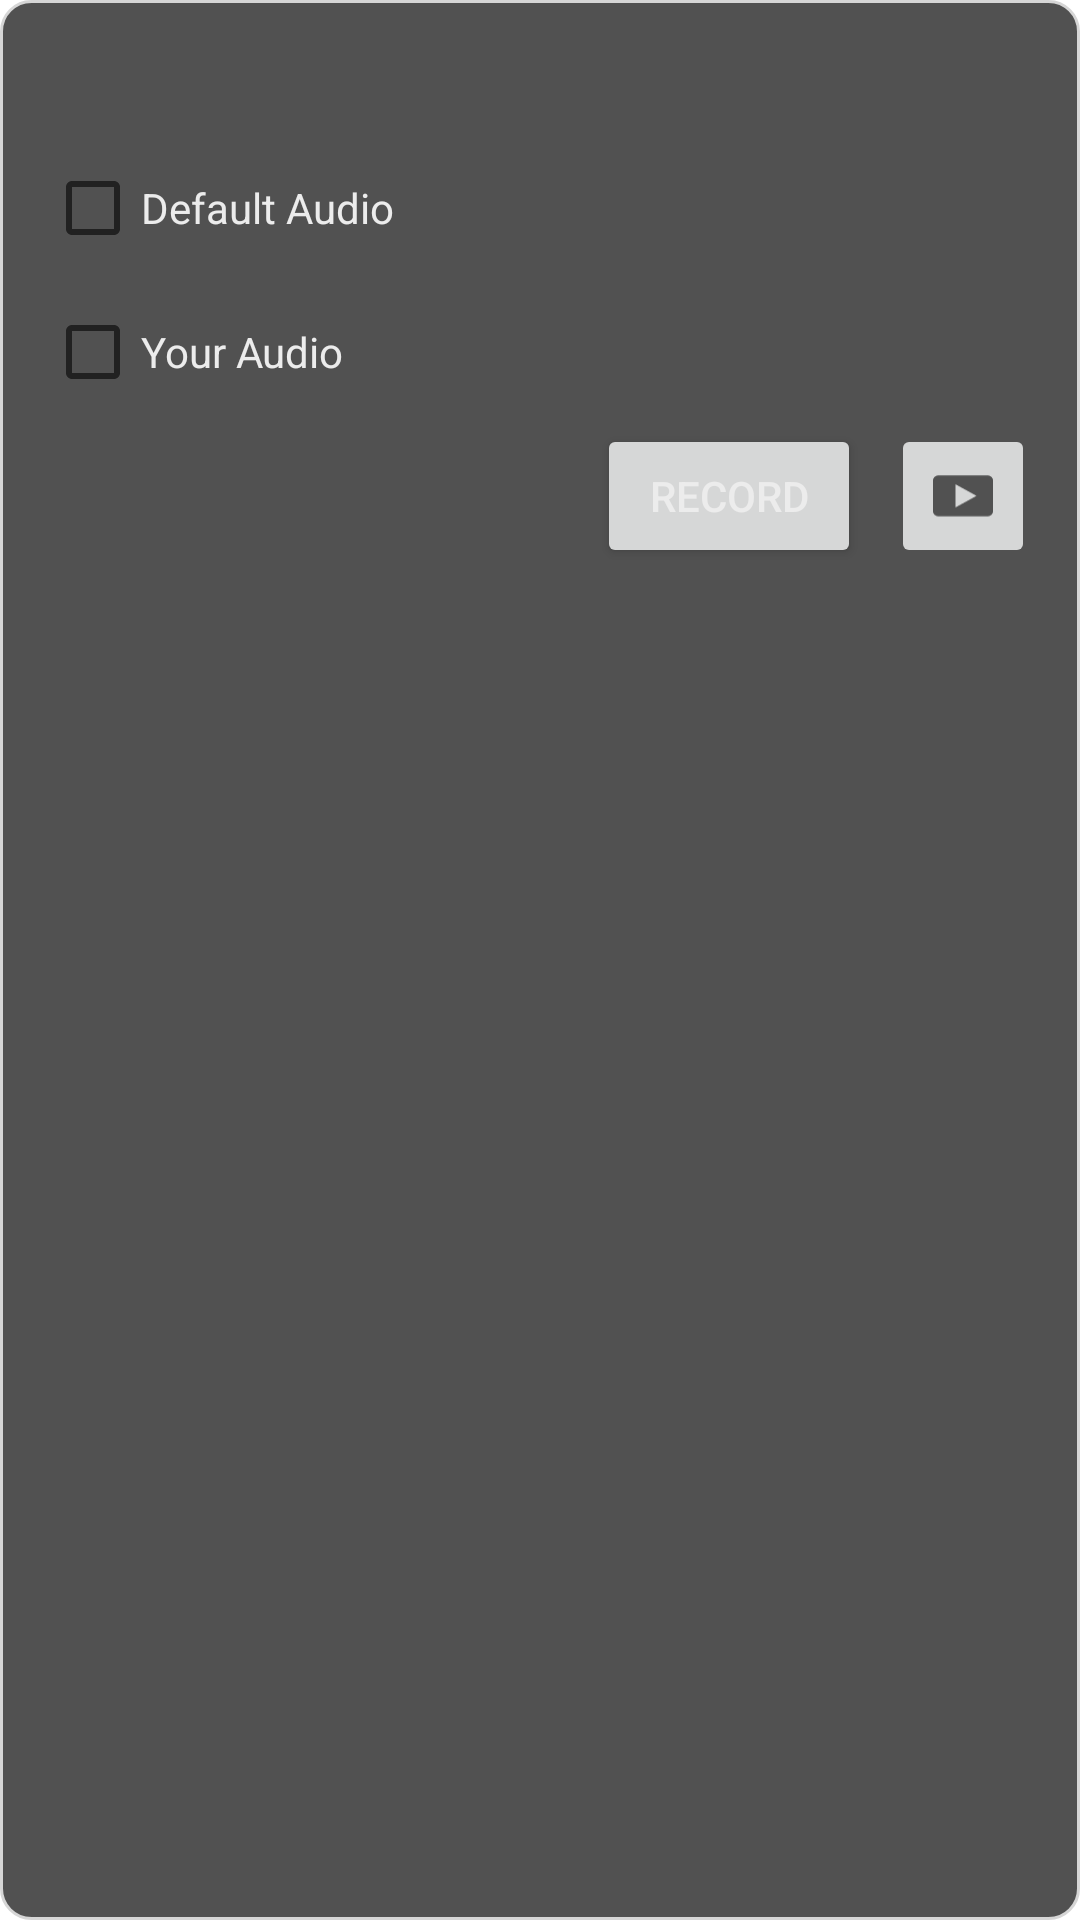

Screen size 1080 x 1920. Icon name, then its center in pixels as (x,y):
play: (963,496)
